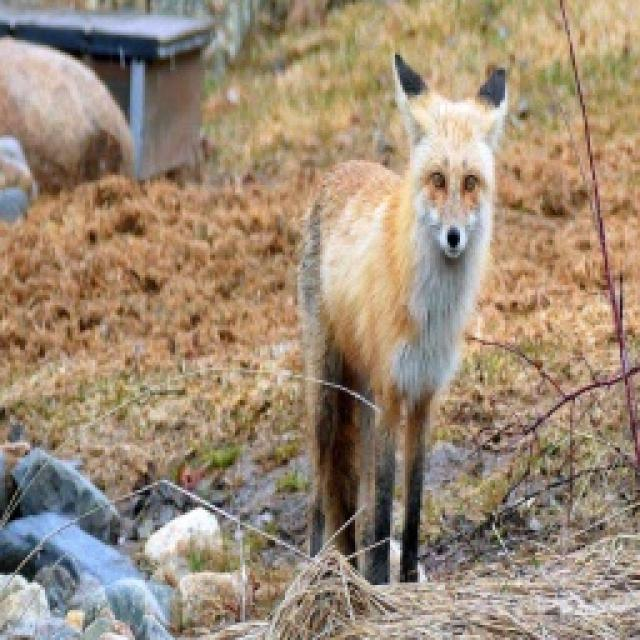Fox: (296, 48, 516, 586)
